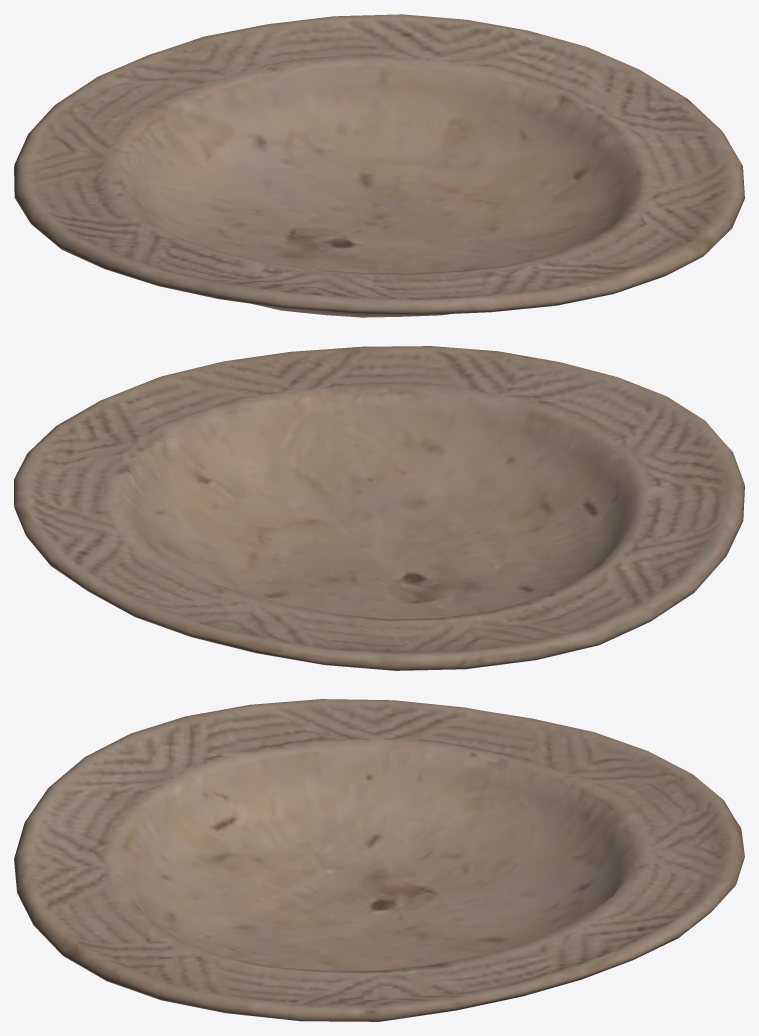
The model's file is carved_wooden_plate.fd8a3b12.glb.
3 views of the same model, one above another, from view 1: azimuth 30°, elevation 25°; view 2: azimuth 150°, elevation 25°; view 3: azimuth 270°, elevation 25° (orthographic). The views are drawn at different scales.
Parts seen in each view (by area): view 1: carved_wooden_plate; view 2: carved_wooden_plate; view 3: carved_wooden_plate.
Boxes of the visible parts, x1,y1,x2,y2 form: carved_wooden_plate: (14,14,744,317); carved_wooden_plate: (14,346,744,670); carved_wooden_plate: (14,699,744,1021).
Bounding box in the file's own units: 0.7282 × 0.102 × 0.72.
Materials: 1 (1 with a texture image).
